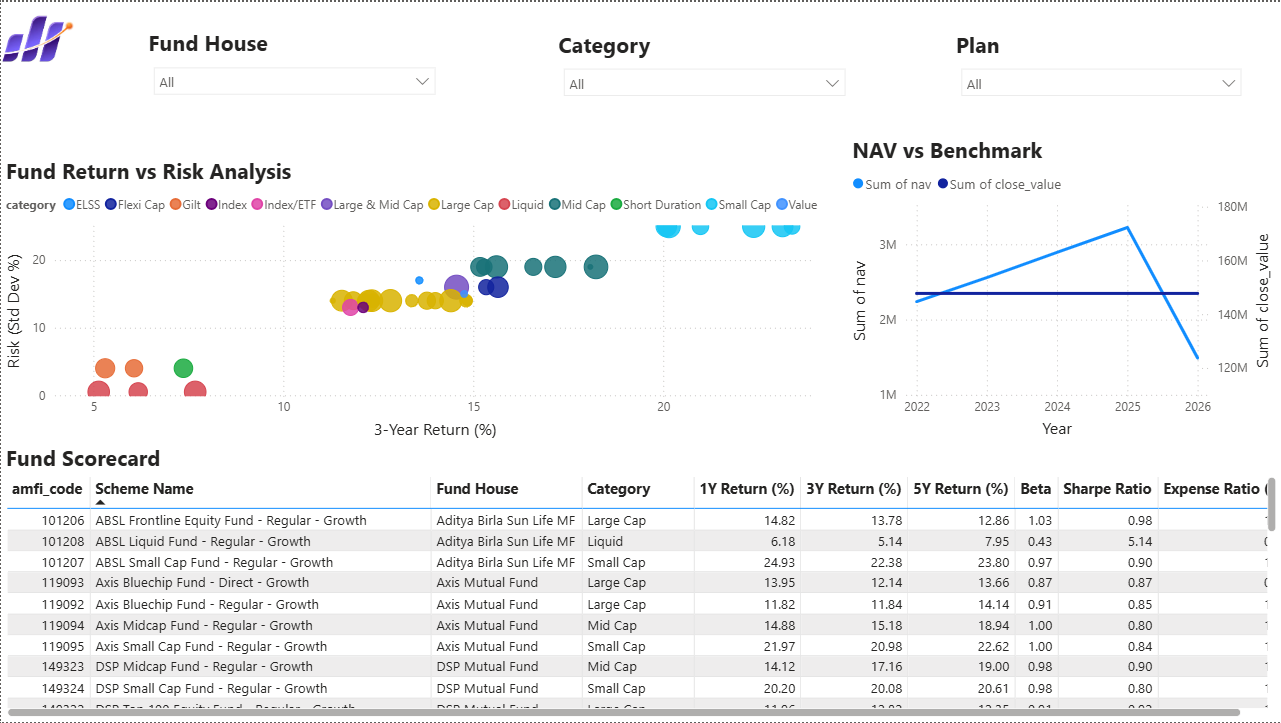

What the dashboard file says about the page in this screenshot:
{"tool":"powerbi","page":{"name":"Fund Performance","canvas":[1280,720],"ordinal":1},"visuals":[{"type":"scatterChart","title":"Fund Return vs Risk Analysis","fields":{"X":["Performance.return_3yr_pct"],"Size":["Sum(Performance.aum_crore)"],"Series":["Performance.category"],"Y":["Performance.std_dev_ann_pct"]},"box":[0,153.2,826.4,288.3],"z":0},{"type":"tableEx","title":"Fund Scorecard","fields":{"Values":["Performance.amfi_code","Fund Master.scheme_name","Performance.fund_house","Performance.category","Sum(Performance.return_1yr_pct)","Sum(Performance.return_3yr_pct)","Sum(Performance.return_5yr_pct)","Sum(Performance.beta)","Sum(Performance.sharpe_ratio)","Sum(Performance.expense_ratio_pct)"]},"box":[0,441.6,1280,278.7],"z":1000},{"type":"lineChart","title":"NAV vs Benchmark","fields":{"Category":["NAV History.date.Variation.Date Hierarchy.Year","NAV History.date.Variation.Date Hierarchy.Month"],"Y":["Sum(NAV History.nav)"],"Y2":["Sum(Benchmark.close_value)"]},"box":[845.7,132.7,433.1,308.8],"z":2000},{"type":"slicer","title":"Fund House","fields":{"Values":["Fund Master.fund_house"]},"box":[142.4,26.5,301.6,97.7],"z":3000},{"type":"slicer","title":"Category","fields":{"Values":["Fund Master.category"]},"box":[552.5,27,301.6,97.7],"z":4000},{"type":"slicer","title":"Plan","fields":{"Values":["Fund Master.plan"]},"box":[949.4,27,300.4,96.5],"z":5000},{"type":"image","box":[0,0,73.6,70],"z":6000}]}

Visuals, with their boxes in screenshot pixels (x1, y1, x2, y2), scaled from the page's 1280x720 canvas onto the 1281x723 screenshot:
"Fund Return vs Risk Analysis" scatterChart: [0,154,827,443]
"Fund Scorecard" tableEx: [0,443,1280,722]
"NAV vs Benchmark" lineChart: [846,133,1280,443]
"Fund House" slicer: [143,27,444,125]
"Category" slicer: [553,27,855,125]
"Plan" slicer: [950,27,1251,124]
image: [0,0,74,70]
